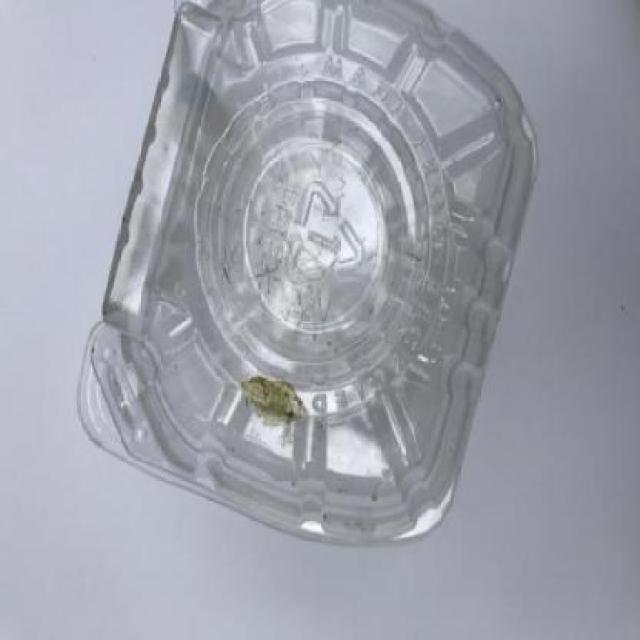trash: (73, 0, 541, 548)
